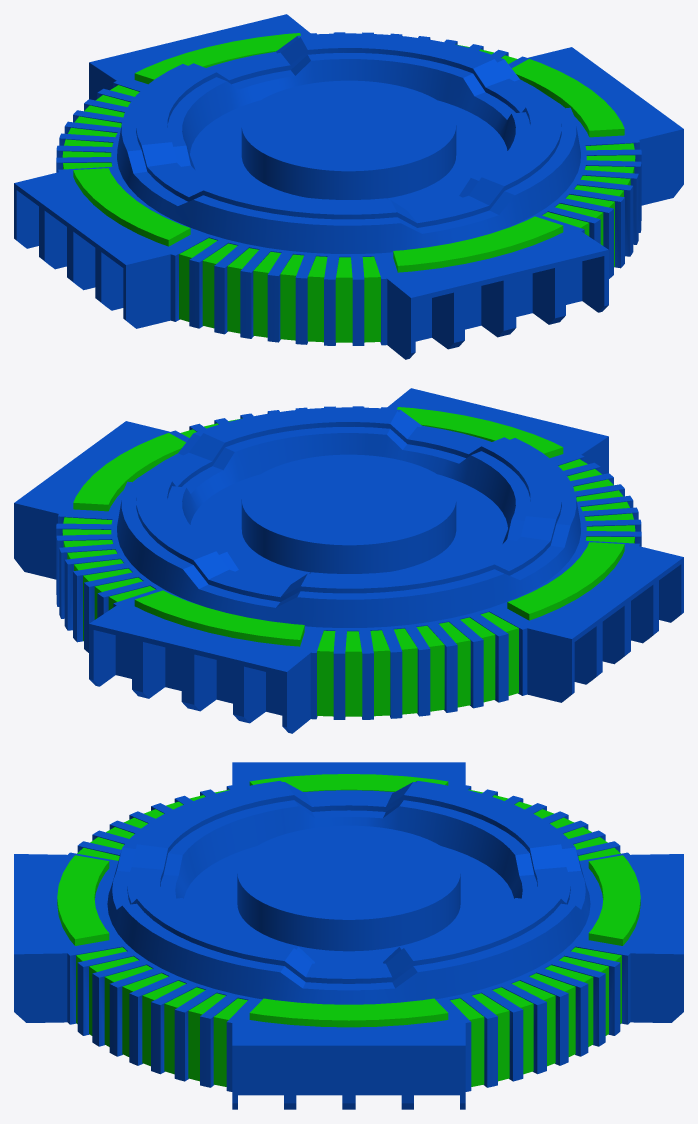
3 views of the same model, one above another, from view 1: azimuth 30°, elevation 25°; view 2: azimuth 150°, elevation 25°; view 3: azimuth 270°, elevation 25° (orthographic). The views are drawn at different scales.
Parts seen in each view (by area): view 1: Cylinder.003; view 2: Cylinder.003; view 3: Cylinder.003.
Boxes of the visible parts, x1,y1,x2,y2 form: Cylinder.003: (14, 14, 683, 359); Cylinder.003: (14, 388, 683, 733); Cylinder.003: (14, 762, 683, 1109).
Size of the model in its own units: 440 by 73.63 by 440.
